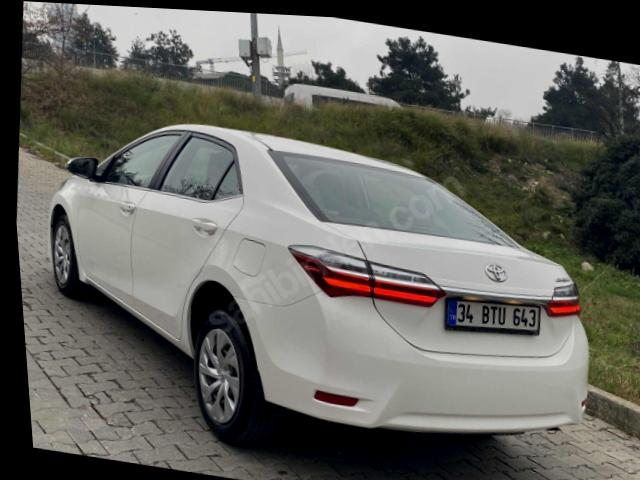plaka: (447, 299, 540, 335)
